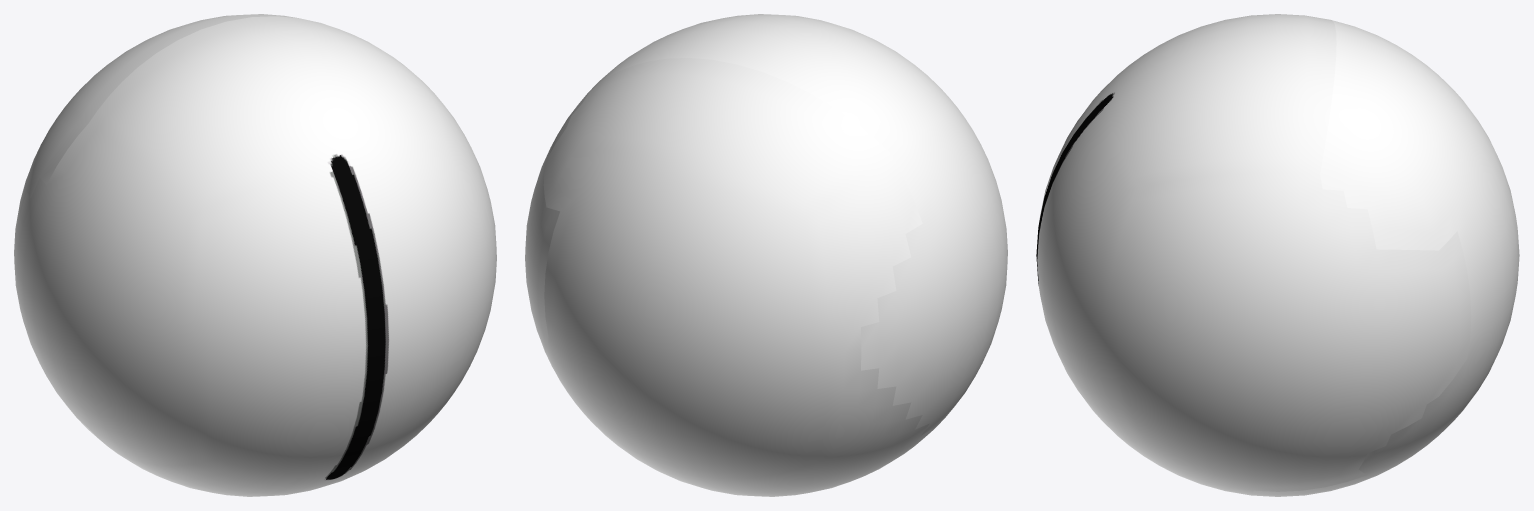
The model's file is Ball 1.fbx.
3 renders of one model, left to right at view 1: azimuth 30°, elevation 25°; view 2: azimuth 150°, elevation 25°; view 3: azimuth 270°, elevation 25°, orthographic.
Parts seen in each view (by area): view 1: root; view 2: root; view 3: root.
Boxes of the visible parts, x1,y1,x2,y2 form: root: (14,14,496,496); root: (525,14,1007,496); root: (1036,14,1519,496).
Size of the model in its own units: 0.2 by 0.2 by 0.2.
